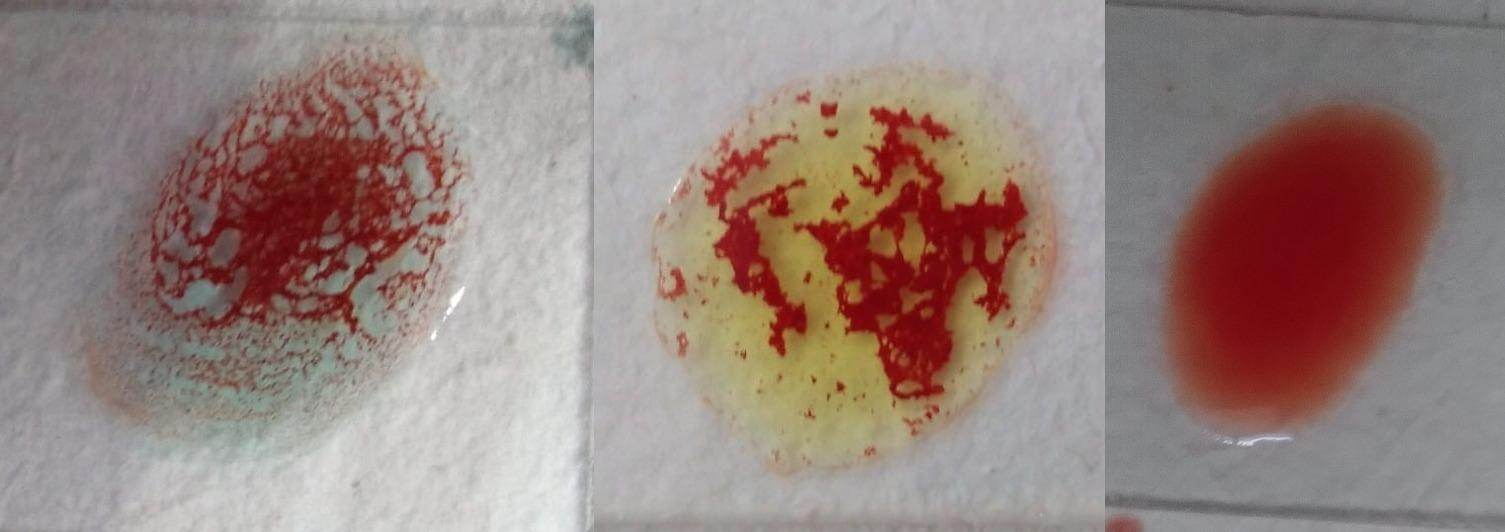A: (101, 31, 469, 450)
B: (696, 66, 1049, 466)
